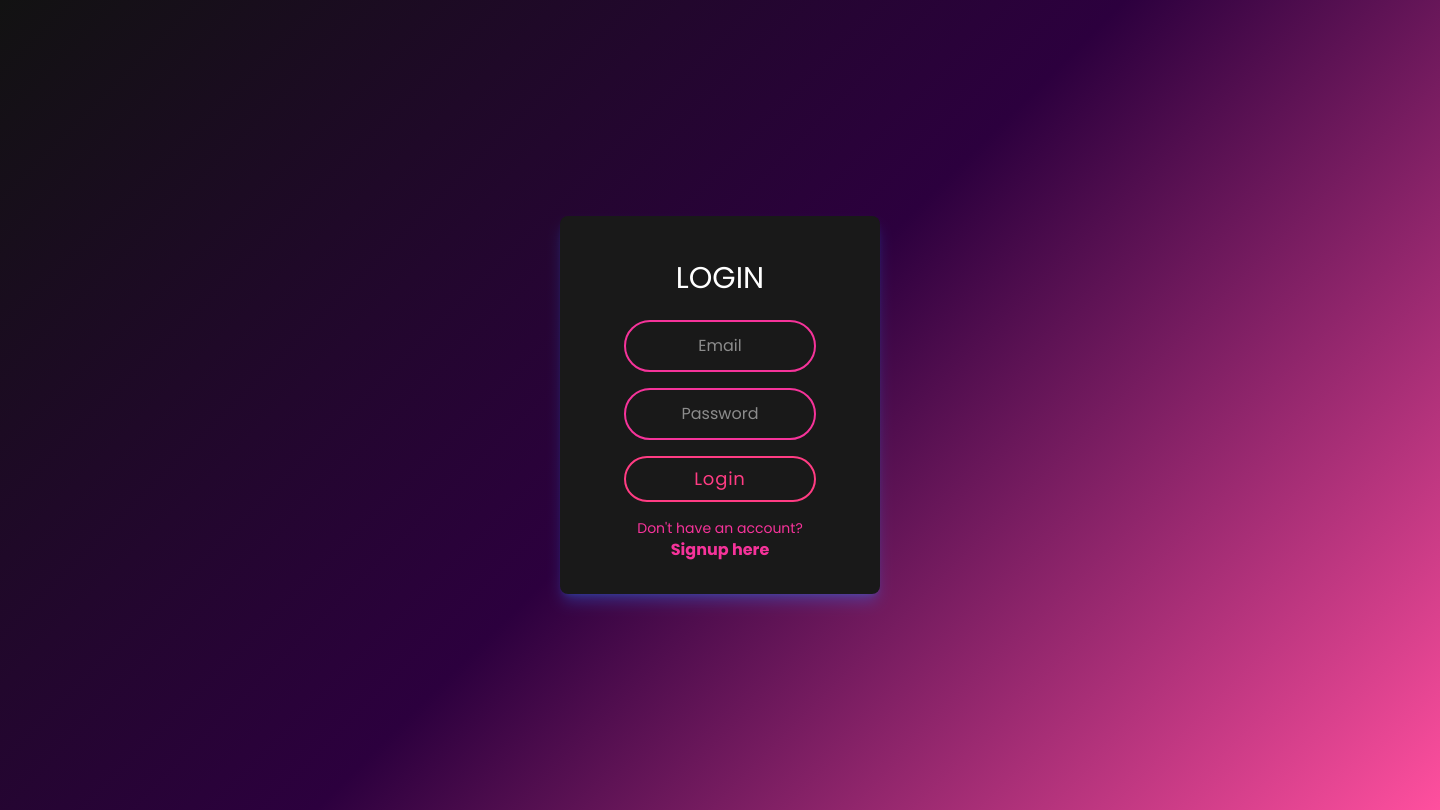
Test: LoginPage Component › should display fallback error message on invalid credentials
The image size is (1440, 810).
Type "wrong@example.com" into the field with placeholder "Email".
click(720, 346); type("wrong@example.com")  # box [624,320,816,372]
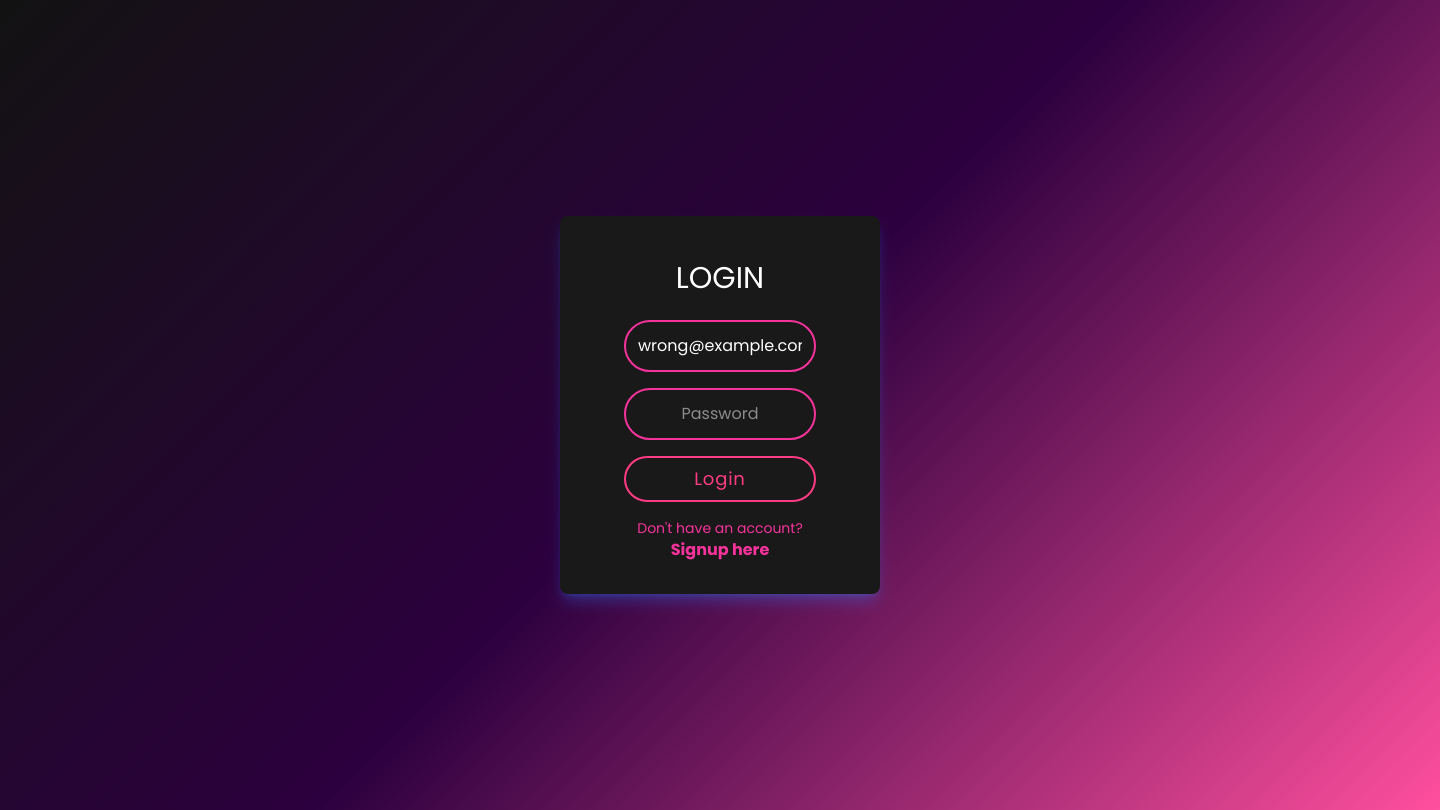
Type "wrongpass" into the password field with placeholder "Password".
click(720, 414); type("wrongpass")  # box [624,388,816,440]
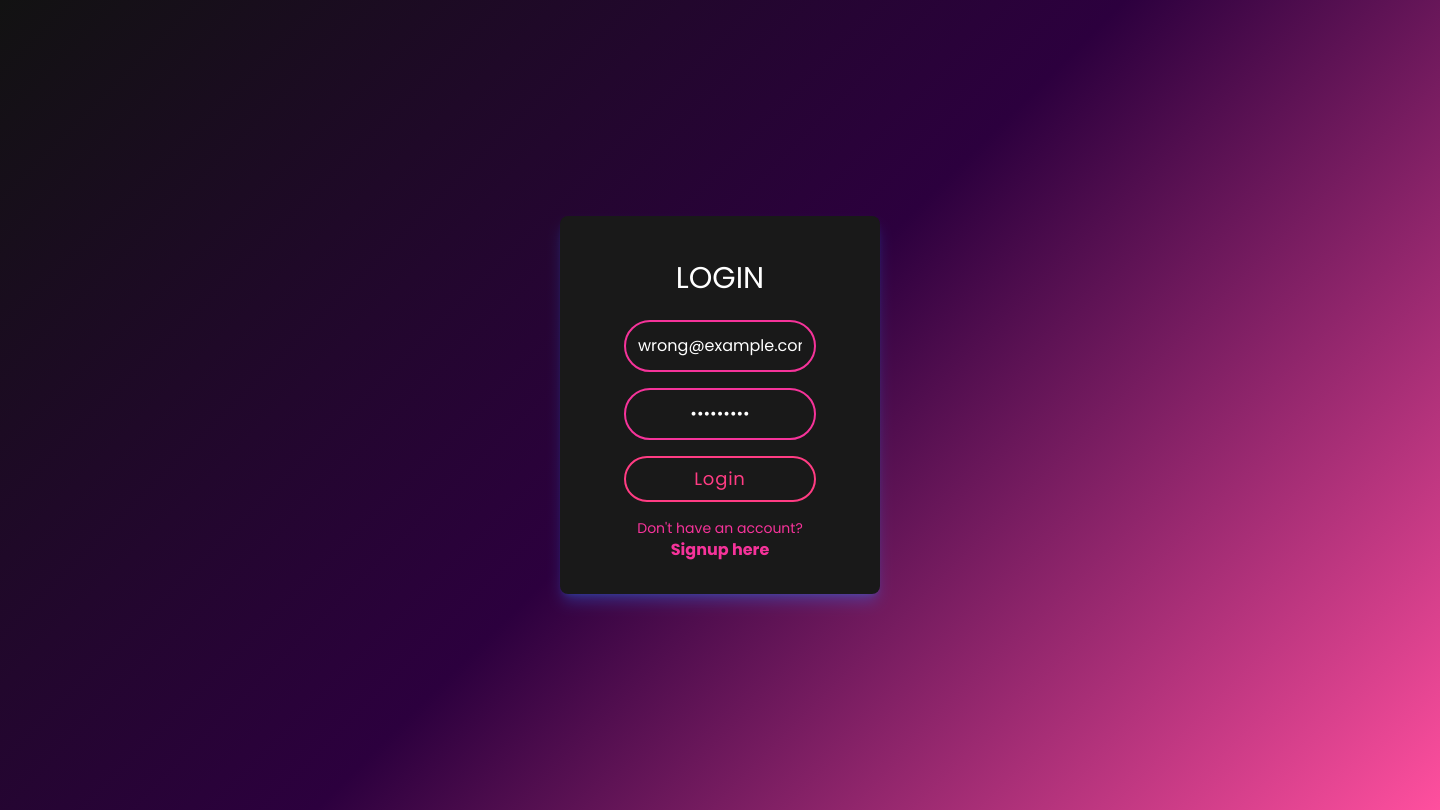
Click the button "Login".
click(720, 479)  # box [624,456,816,502]
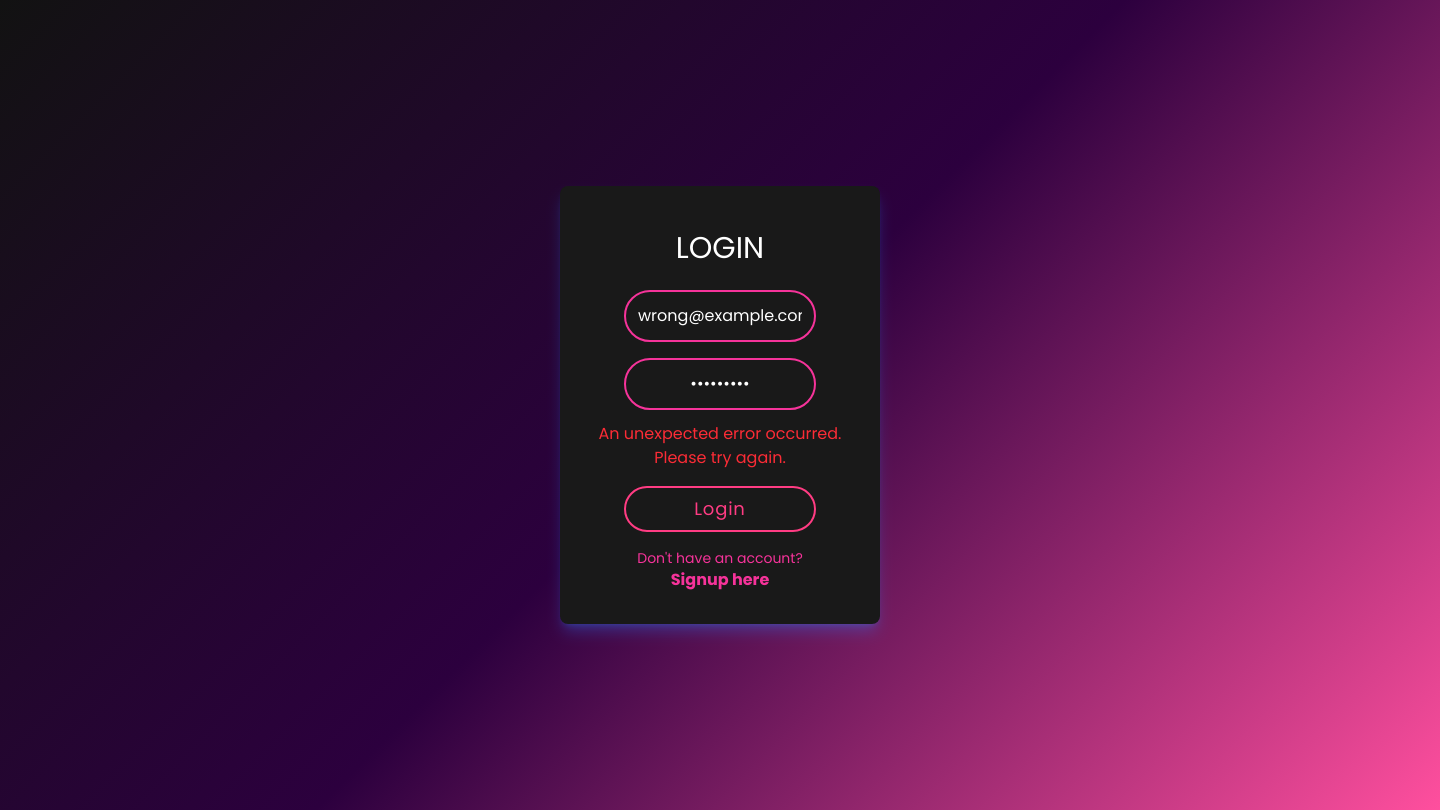
Result: the text "An unexpected error occurred. Please try again." is shown at [592,422,848,470]
